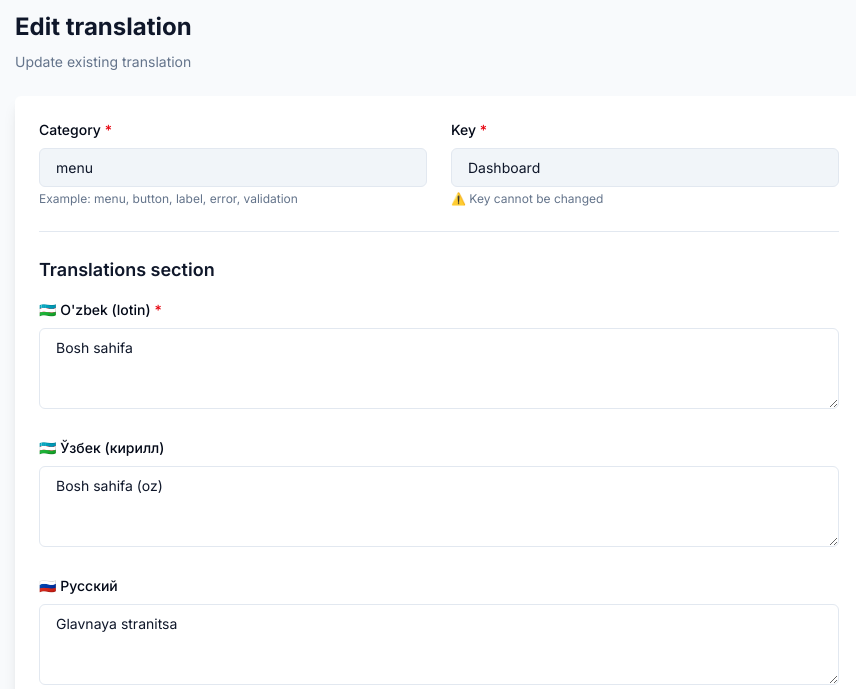
TranslationFormPage › shows "and more" text when more than 5 similar translations
Replace the text in the text box with placeholder "Primary text (uz-UZ)" with "Similar text" at (439, 368), box 39,328 -> 839,409
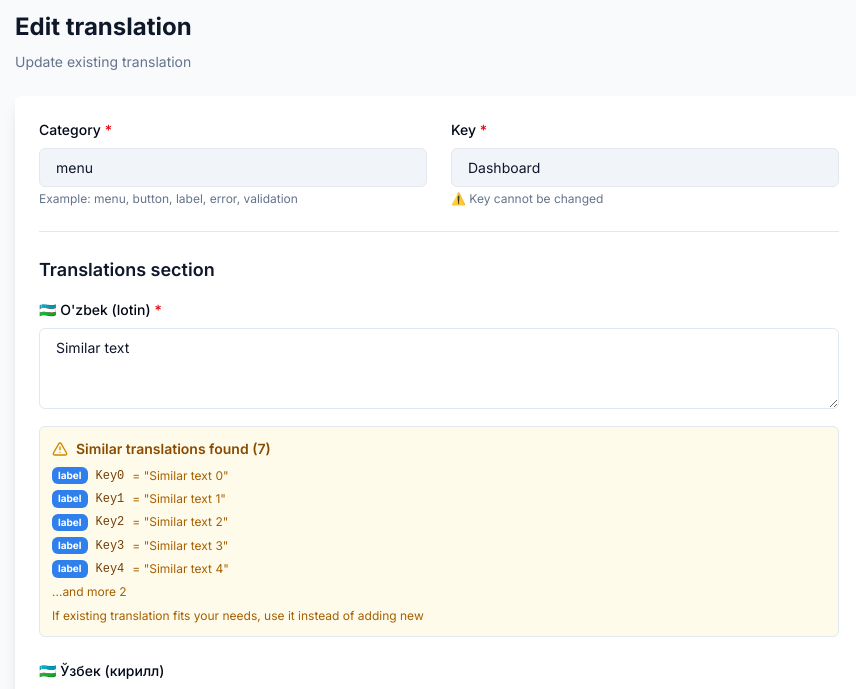
Expected: the text "Similar translations found (7)" is shown, 76,439 -> 271,459
Expected: the text "...and more 2" is shown, 52,584 -> 127,599
